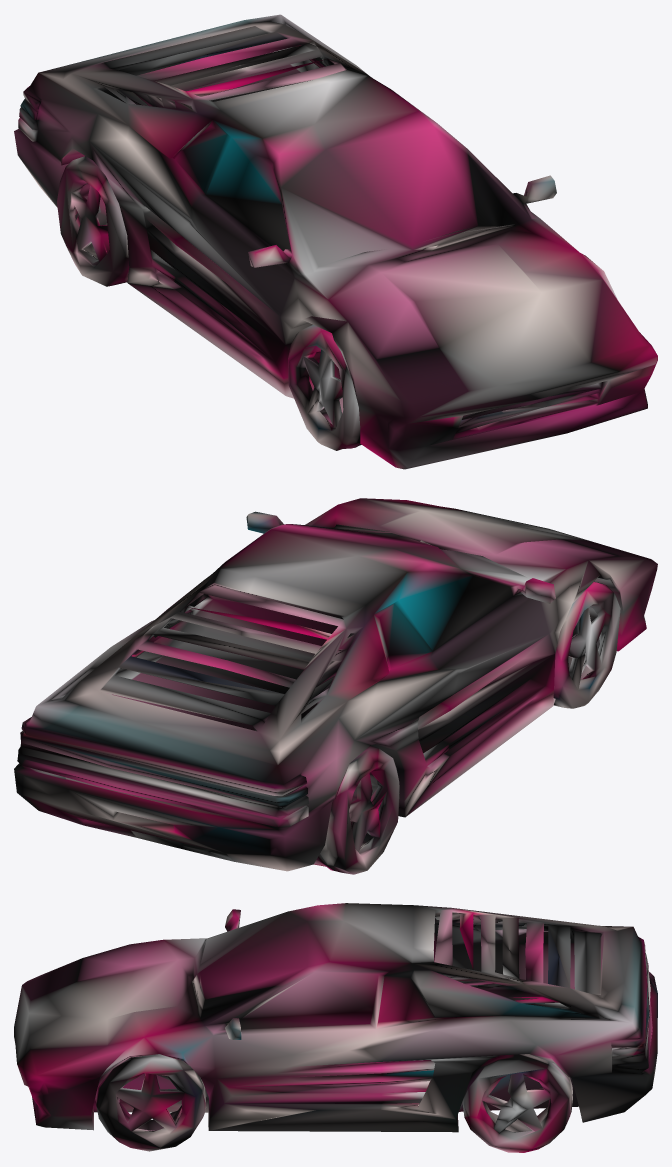
The model's file is car_testarossa.glb.
3 views of the same model, one above another, from view 1: azimuth 30°, elevation 25°; view 2: azimuth 150°, elevation 25°; view 3: azimuth 270°, elevation 25° (orthographic). The views are drawn at different scales.
Bounding box in the file's own units: 1.99 × 1.31 × 4.49.
